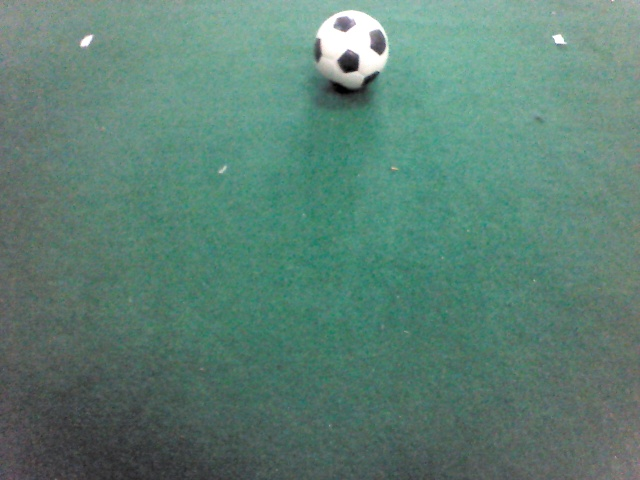ball: (313, 9, 389, 92)
